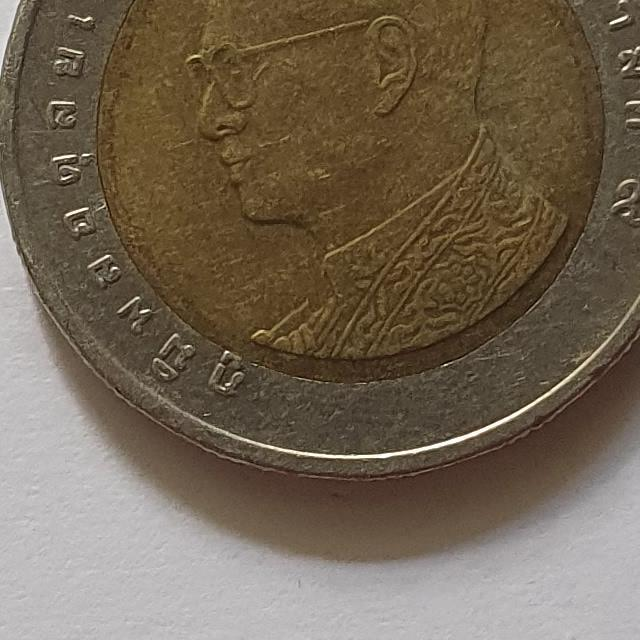10 Bath: (1, 1, 640, 491)
